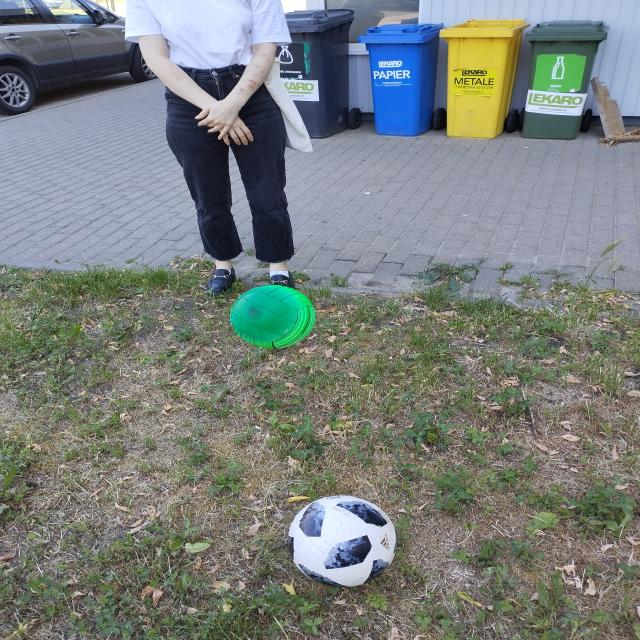nozna: (288, 495, 397, 587)
zielona: (230, 285, 316, 349)
